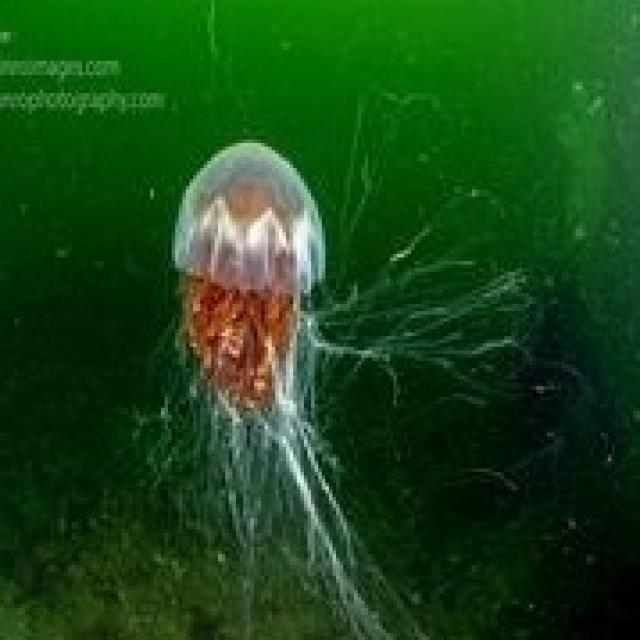Box-jellyfish: (168, 136, 325, 418)
